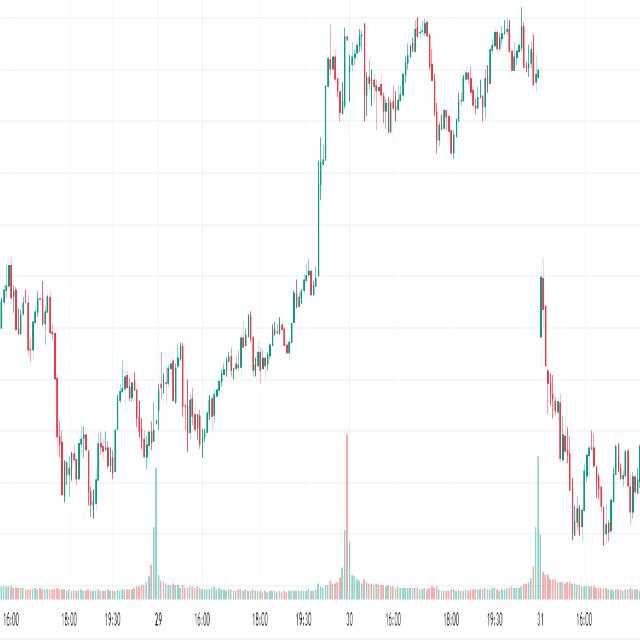Inverse-Head-Shoulders: (52, 324, 127, 530)
